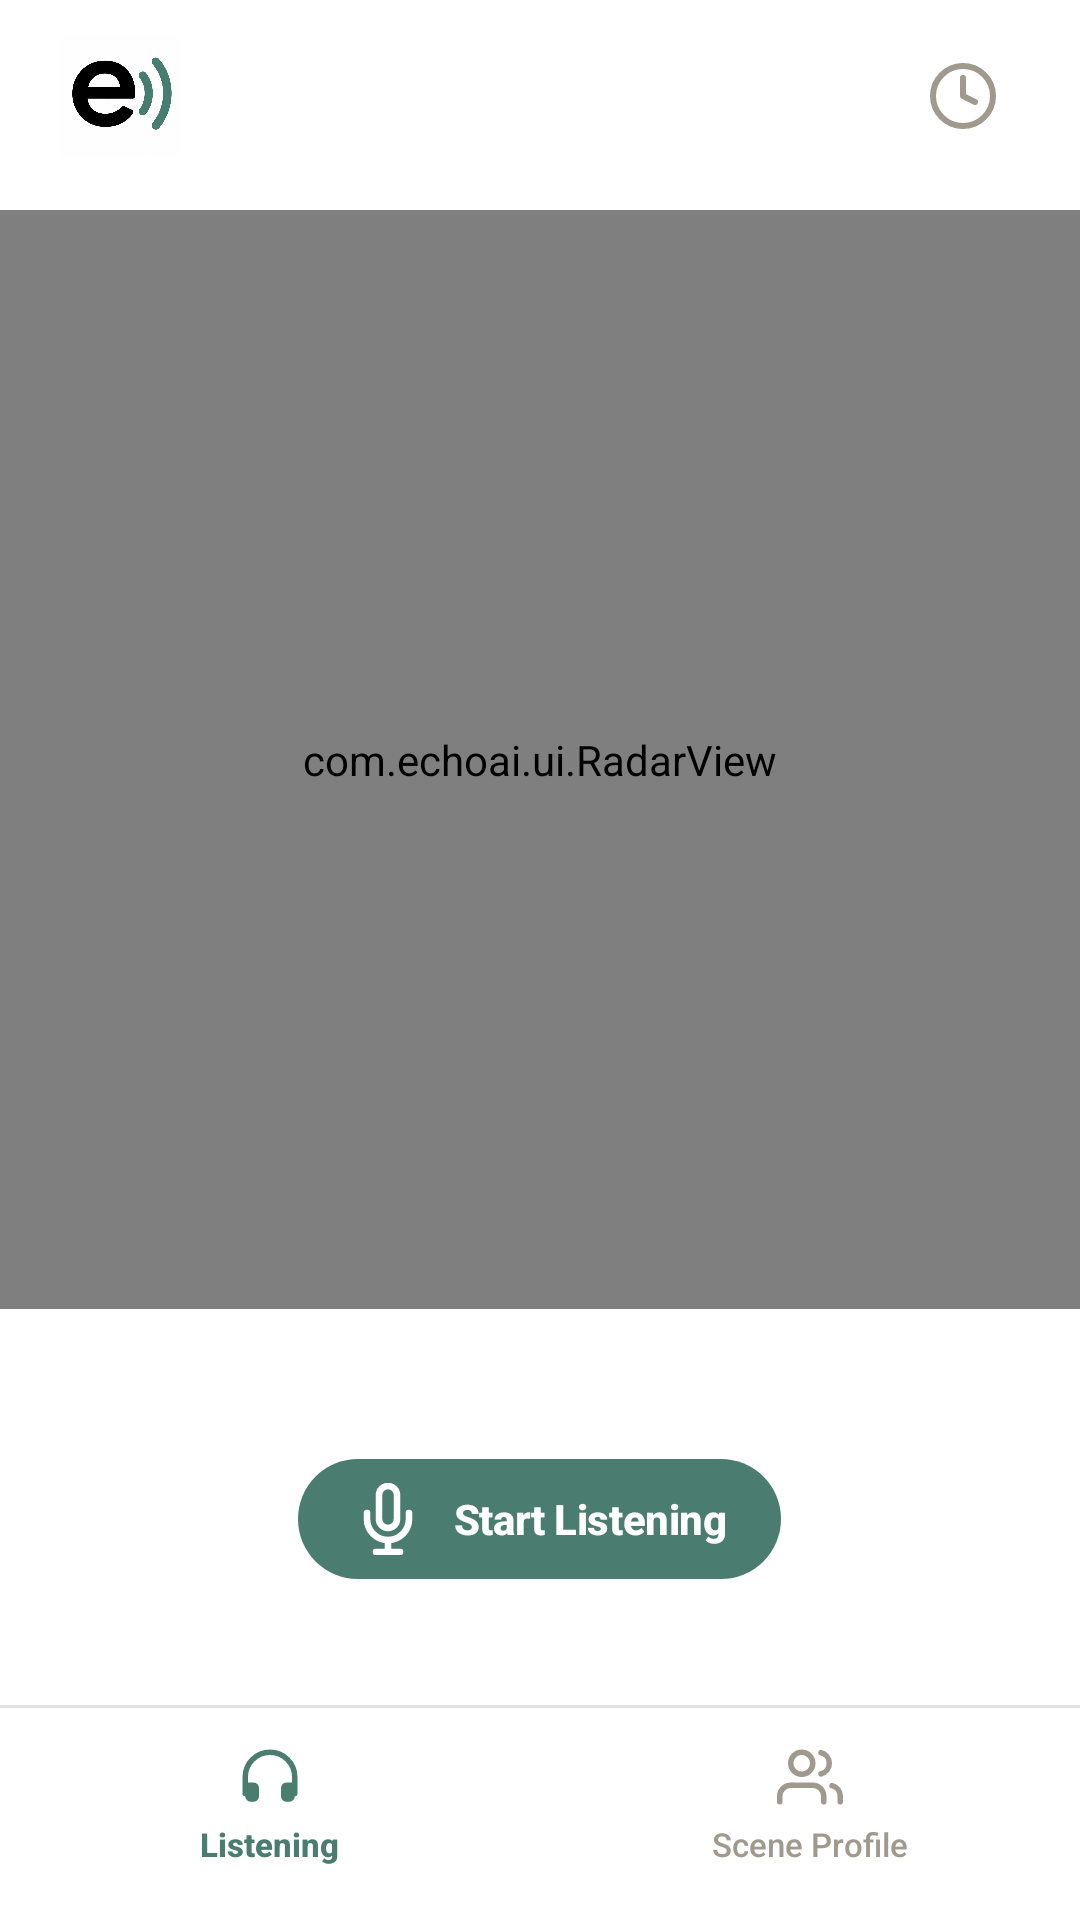

Icon bounding boxes for this 1080px×1920px phone screenshot, format bbox=(x1, y1, x2, y2):
headphones: bbox=(242, 1749, 298, 1802)
History: bbox=(930, 63, 996, 129)
people: bbox=(777, 1749, 843, 1805)
